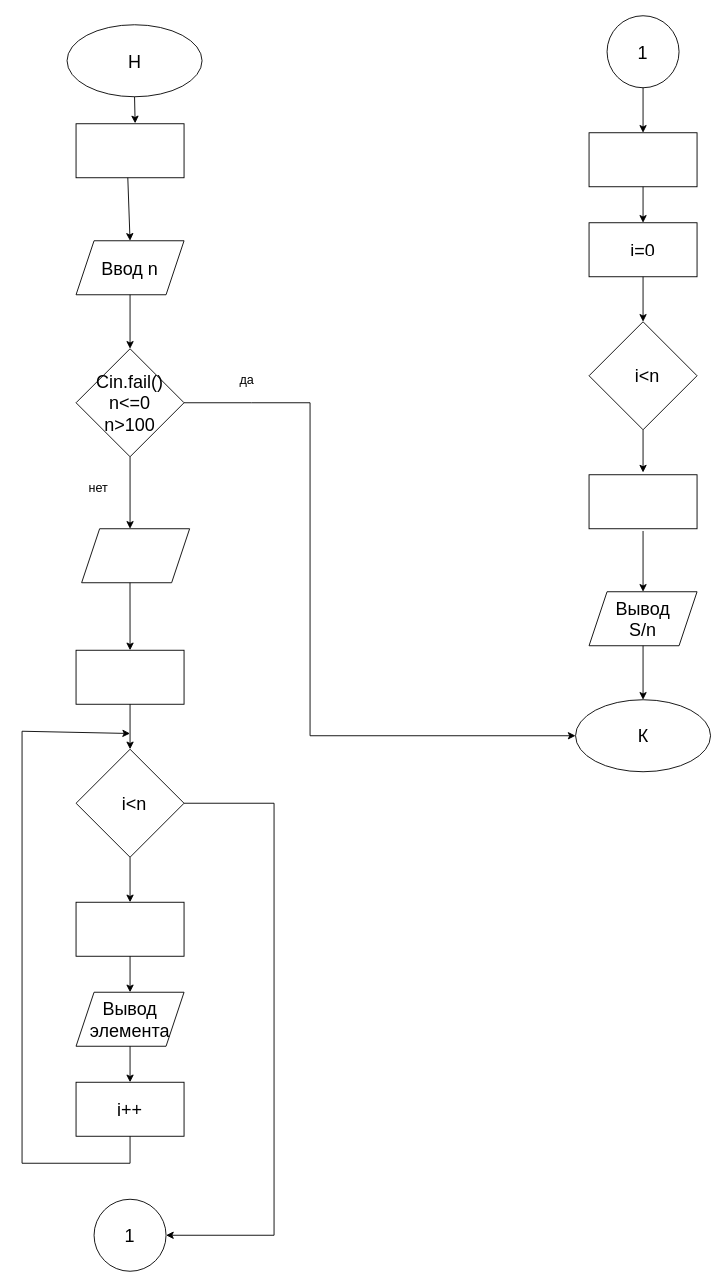
This 726x1287 diagram has some shape labels left out. The centre of each missing label's shape, as x and y in pixels:
"i = 0" belongs at [129,676].
"S+=arr[i]*arr[i]" belongs at [642,501].
"s=0" belongs at [642,159].
"Вывод размера массива n" belongs at [135,555].
"Заполнение элементов" belongs at [129,928].
"Создание массива arr[] размера N" belongs at [129,150].
